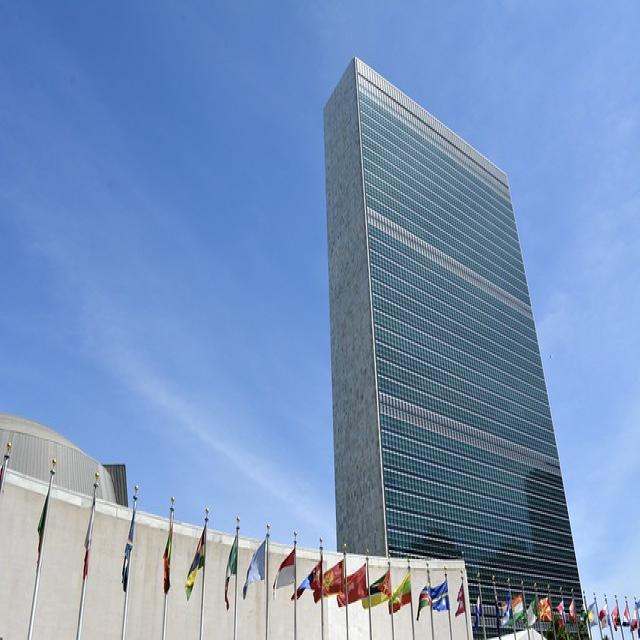building: (319, 49, 591, 640)
